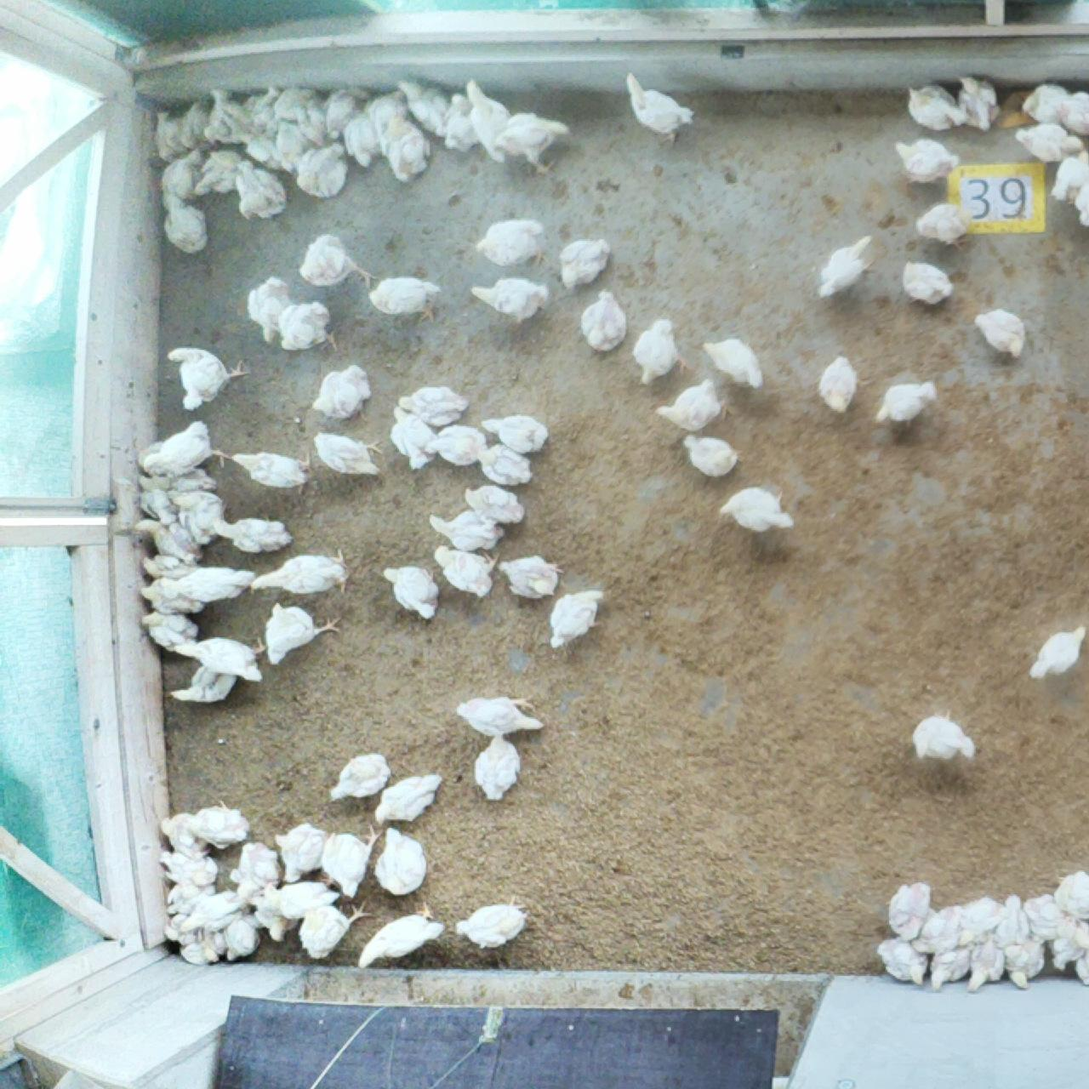chicken: (257, 600, 353, 668), (166, 344, 249, 413), (492, 111, 578, 173), (357, 909, 444, 969), (624, 73, 694, 145), (142, 418, 235, 471), (249, 556, 352, 600), (464, 83, 515, 170), (904, 710, 979, 769), (296, 233, 371, 290), (470, 276, 551, 328), (450, 895, 527, 949), (373, 828, 436, 892), (171, 638, 267, 680), (397, 77, 455, 146), (246, 277, 299, 351), (311, 430, 385, 482), (310, 361, 373, 422), (720, 486, 799, 534), (385, 407, 443, 472), (375, 770, 444, 824), (162, 562, 255, 602), (232, 162, 291, 225), (368, 274, 443, 323), (322, 834, 379, 898), (296, 906, 363, 959), (650, 380, 721, 430), (1026, 625, 1089, 681), (209, 514, 297, 554), (231, 452, 314, 494), (904, 84, 972, 135), (471, 734, 521, 803), (575, 289, 630, 351), (453, 698, 547, 734), (138, 609, 210, 656), (158, 194, 214, 254), (426, 509, 507, 550), (1017, 119, 1089, 165), (273, 821, 329, 880), (477, 215, 542, 265), (381, 568, 442, 621), (436, 545, 497, 598), (820, 235, 871, 298), (137, 516, 201, 566), (706, 339, 765, 393), (550, 591, 602, 650), (1023, 893, 1079, 947), (482, 413, 549, 458), (383, 121, 432, 182), (274, 305, 339, 350), (178, 889, 244, 933), (896, 140, 961, 184), (876, 380, 938, 426), (173, 666, 246, 705), (818, 355, 864, 416), (887, 883, 934, 942), (137, 577, 204, 618), (681, 433, 740, 479), (425, 426, 491, 467), (562, 238, 613, 291), (294, 150, 350, 198), (910, 906, 964, 955), (328, 755, 391, 797), (499, 558, 562, 600), (365, 89, 413, 144), (633, 322, 677, 381), (462, 482, 525, 523), (194, 151, 254, 194), (973, 311, 1029, 357), (261, 884, 339, 917), (901, 258, 952, 308), (960, 77, 1005, 133), (877, 942, 934, 986), (400, 390, 472, 424), (158, 157, 206, 208), (916, 200, 972, 243), (159, 812, 211, 858), (235, 841, 278, 896), (439, 93, 479, 151), (191, 807, 252, 845), (995, 895, 1039, 947), (960, 901, 1007, 949), (136, 548, 202, 582), (476, 449, 536, 486), (133, 468, 218, 494), (1018, 79, 1069, 122), (157, 855, 227, 886), (271, 122, 317, 168), (130, 485, 184, 524), (243, 129, 290, 173), (178, 495, 227, 537), (299, 108, 347, 148), (208, 92, 247, 141), (344, 115, 379, 169), (323, 92, 363, 139), (147, 111, 185, 159), (219, 918, 262, 959), (272, 85, 316, 125), (249, 904, 295, 942), (1052, 155, 1089, 202), (969, 946, 1003, 994), (164, 886, 220, 915), (1052, 924, 1086, 971), (1006, 945, 1044, 987), (178, 936, 231, 965), (1057, 873, 1089, 921), (180, 105, 212, 151), (932, 949, 964, 990), (1064, 91, 1089, 140), (248, 94, 277, 126), (1073, 179, 1089, 227), (1075, 946, 1089, 987)
